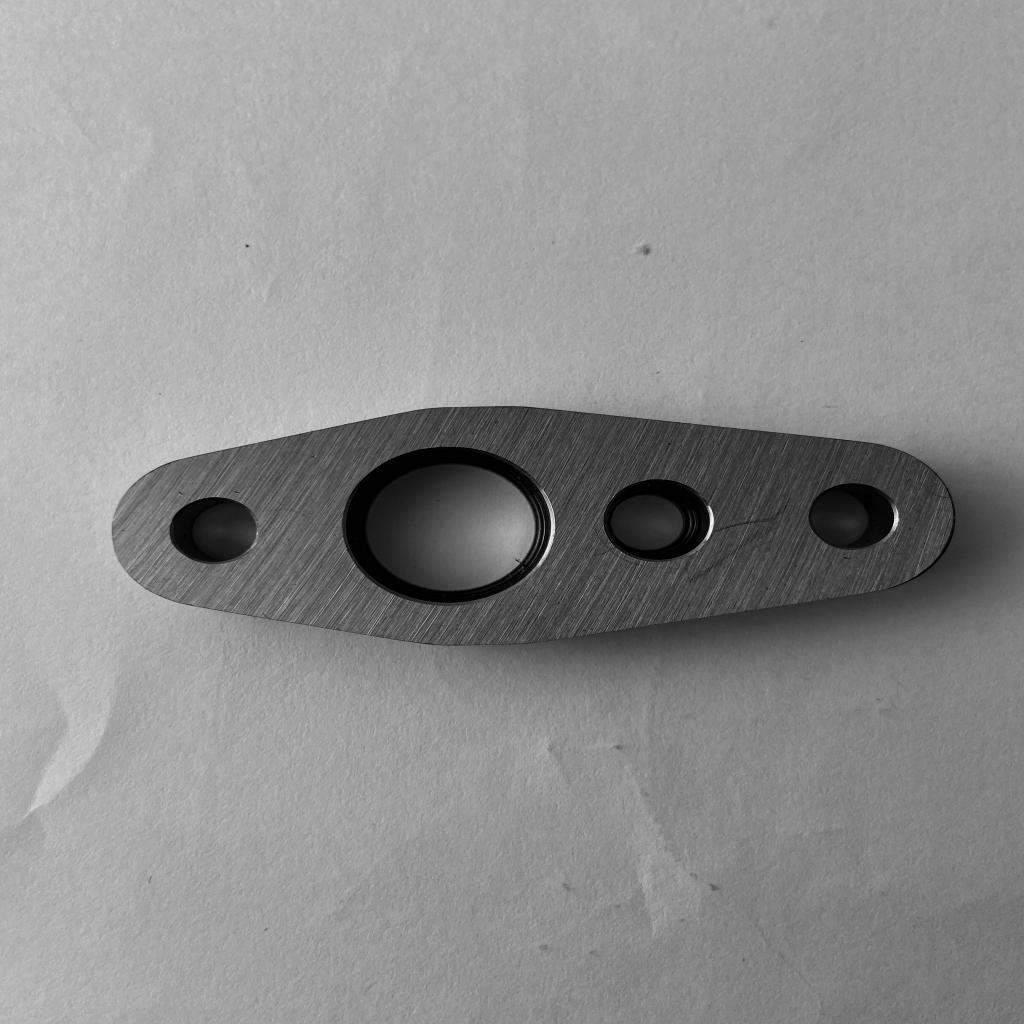chap: (232, 489, 244, 496), (177, 489, 184, 497), (310, 454, 319, 459)
lines: (717, 519, 768, 534), (594, 547, 618, 558)
